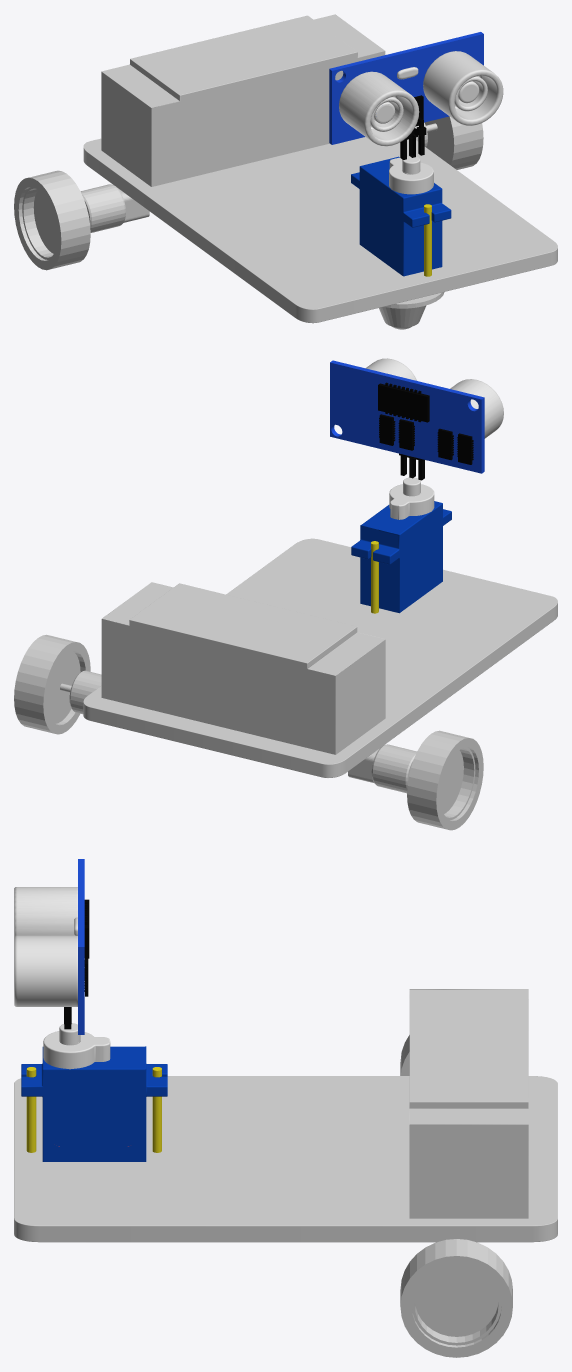
The model's file is 2wheel.gltf.
The picture shows the model from 3 angles, top to bottom: view 1: azimuth 30°, elevation 25°; view 2: azimuth 150°, elevation 25°; view 3: azimuth 270°, elevation 25°; orthographic projection. The views are drawn at different scales.
Parts seen in each view (by area): view 1: base, Cube, left, servo, right_wheel, left_wheel, right_motor, front_wheel, Cylinder.000; view 2: Cube, base, left, servo, right_wheel, left_wheel, right_motor, left_motor; view 3: base, Cube, servo, left_wheel, left, Cylinder.000, Cylinder.001.
Part boxes in pixels (x1,y1,x2,y2): base: [83, 137, 557, 323]; Cube: [101, 14, 385, 186]; left: [329, 32, 503, 159]; servo: [351, 156, 451, 276]; right_wheel: [14, 170, 90, 270]; left_wheel: [424, 116, 483, 169]; right_motor: [80, 184, 149, 232]; front_wheel: [379, 292, 444, 329]; Cylinder.000: [424, 204, 431, 276]; Cube: [101, 582, 385, 754]; base: [83, 538, 557, 777]; left: [330, 358, 503, 480]; servo: [351, 477, 451, 613]; right_wheel: [407, 730, 483, 830]; left_wheel: [14, 634, 90, 734]; right_motor: [348, 744, 416, 793]; left_motor: [69, 670, 101, 714]; base: [14, 1076, 557, 1242]; Cube: [409, 989, 528, 1218]; servo: [21, 1023, 167, 1161]; left_wheel: [400, 1239, 512, 1357]; left: [14, 859, 89, 1034]; Cylinder.000: [26, 1067, 36, 1152]; Cylinder.001: [152, 1067, 161, 1152].
Bounding box in the file's own units: 23.61 × 14.98 × 22.19.
